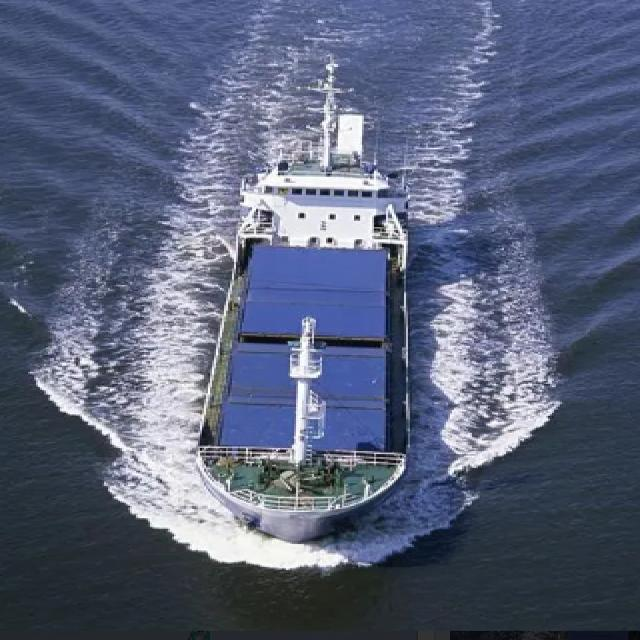cargoship: (172, 97, 423, 527)
